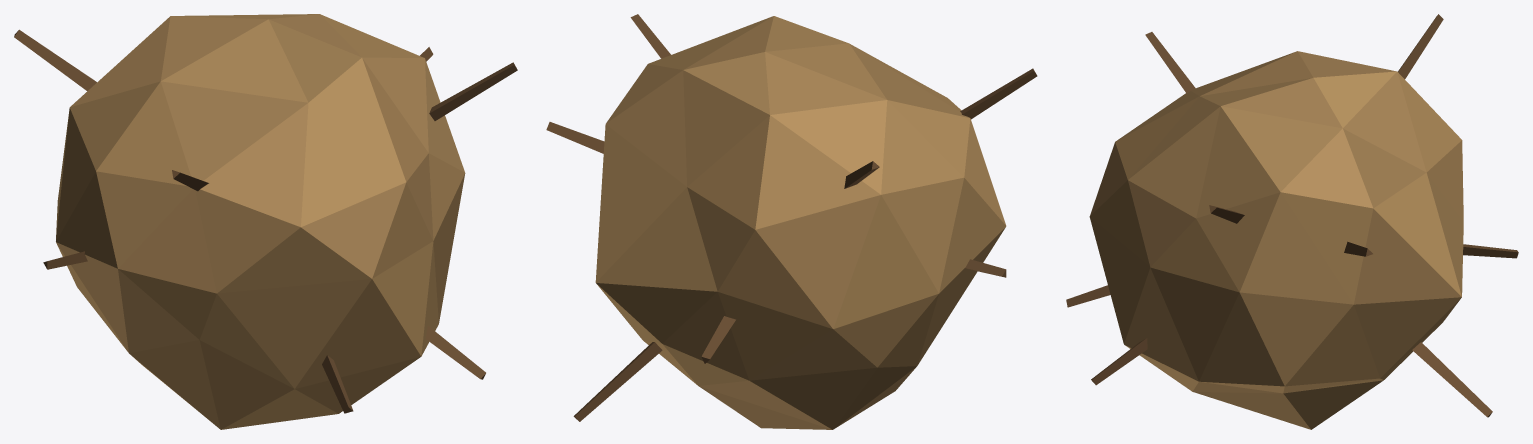
The model's file is Scatter_Tumbleweed.fbx.
The picture shows the model from 3 angles, left to right: view 1: azimuth 30°, elevation 25°; view 2: azimuth 150°, elevation 25°; view 3: azimuth 270°, elevation 25°; orthographic projection. The views are drawn at different scales.
Visible parts, largest first — view 1: Tumbleweed; view 2: Tumbleweed; view 3: Tumbleweed.
Boxes of the visible parts, box(x1,y1,x2,y2) form: Tumbleweed: box(14, 14, 517, 429); Tumbleweed: box(546, 14, 1037, 429); Tumbleweed: box(1066, 14, 1518, 429).
Size of the model in its own units: 4.49 by 3.89 by 4.56.
